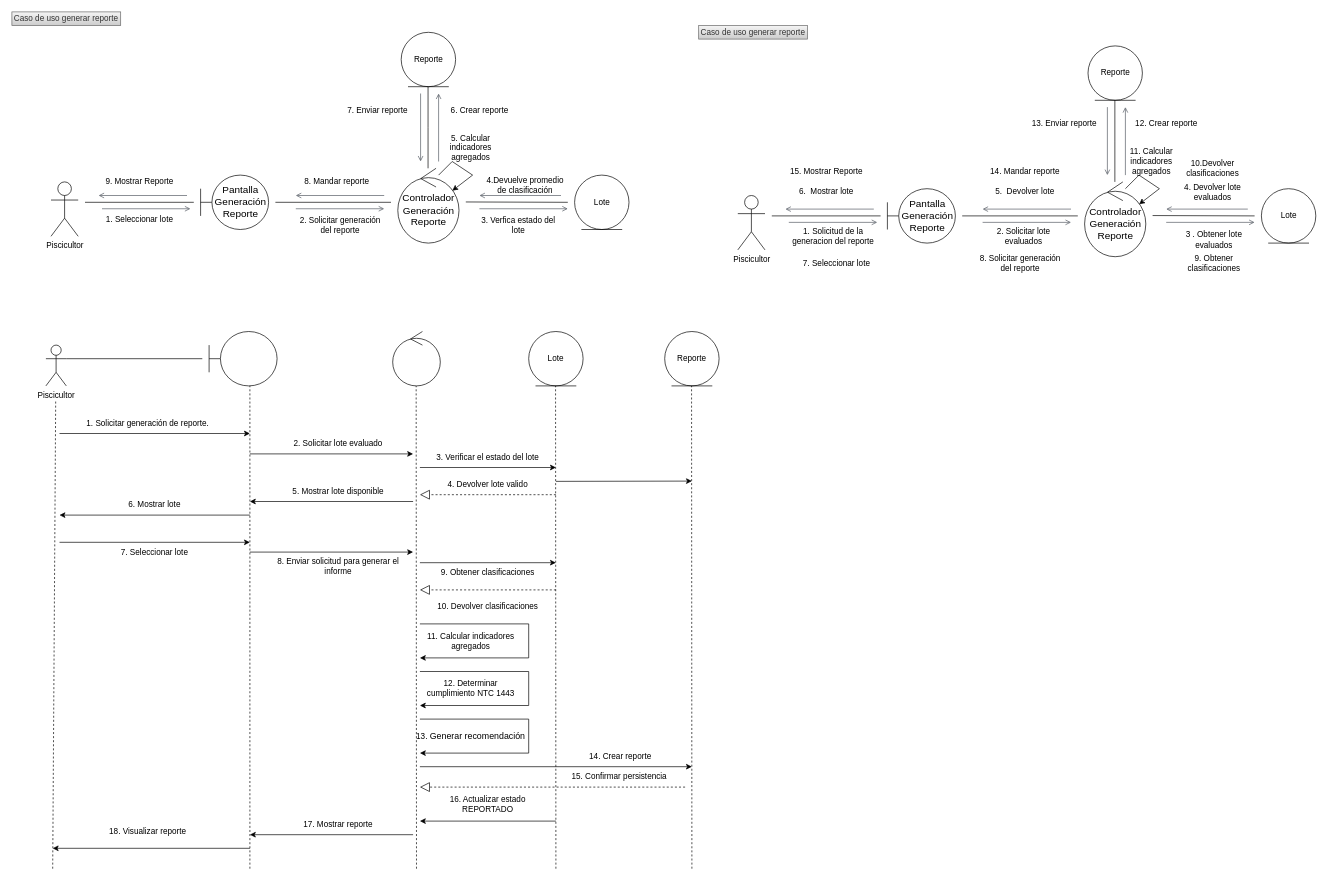
The diagram is 1328 pixels wide and 881 high, and some of its shapes have lost their labels. The centre of each missing label's shape, as x and y in pixels:
"Control Generación Reporte" goes at (416,358).
"Pantalla Generar Reporte" goes at (242,358).
